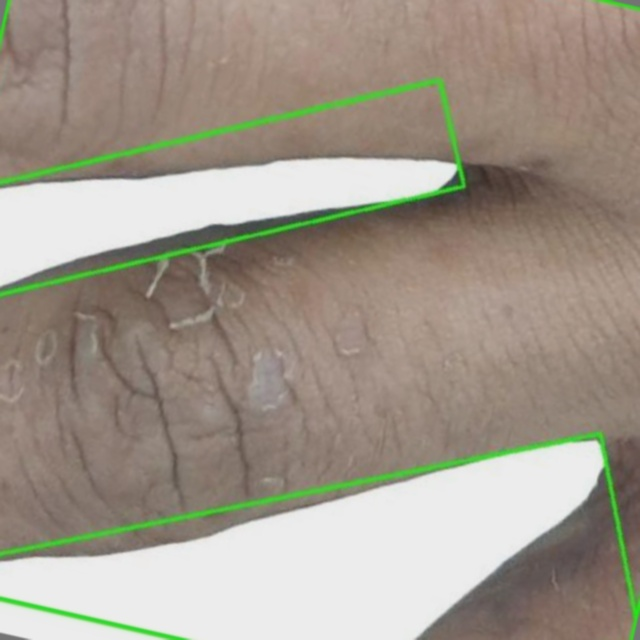Scabies: (0, 0, 639, 639), (0, 434, 630, 639), (0, 81, 463, 294)
